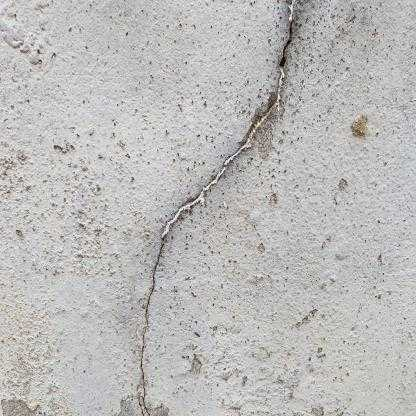crack: (141, 237, 164, 414), (279, 20, 292, 66)
